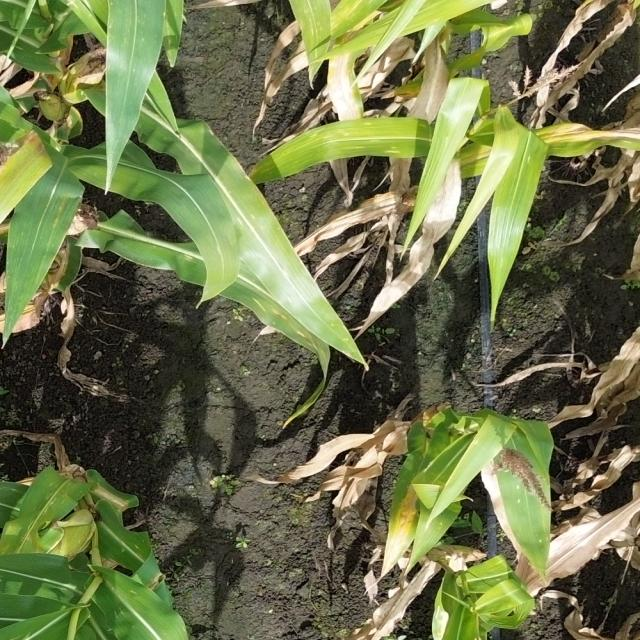gray-leaf-spot: (273, 1, 394, 78), (257, 296, 376, 365), (294, 119, 444, 165), (26, 465, 86, 540)
northern-leaf-blight: (368, 460, 458, 551), (0, 120, 44, 213)
southern-leaf-blight: (508, 469, 572, 561), (84, 572, 169, 640), (111, 10, 164, 104)
